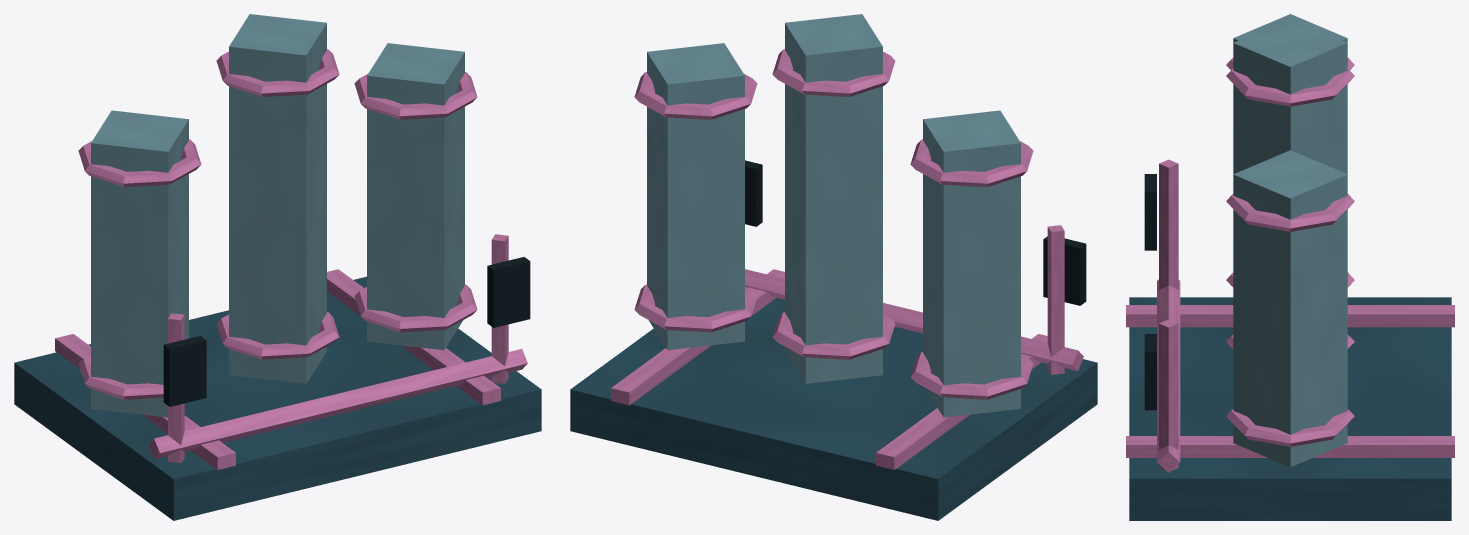
File: atlas100-s065-a02.lod2.glb
The picture shows the model from 3 angles, left to right: view 1: azimuth 30°, elevation 25°; view 2: azimuth 150°, elevation 25°; view 3: azimuth 270°, elevation 25°; orthographic projection.
Visible parts, largest first — view 1: atlas100-s065-a02:part-000, atlas100-s065-a02:part-007, atlas100-s065-a02:part-011, atlas100-s065-a02:part-003, atlas100-s065-a02:part-019, atlas100-s065-a02:part-018, atlas100-s065-a02:part-016, atlas100-s065-a02:part-002, atlas100-s065-a02:part-013, atlas100-s065-a02:part-005, atlas100-s065-a02:part-008, atlas100-s065-a02:part-009 (+5 smaller); view 2: atlas100-s065-a02:part-000, atlas100-s065-a02:part-007, atlas100-s065-a02:part-011, atlas100-s065-a02:part-003, atlas100-s065-a02:part-002, atlas100-s065-a02:part-019, atlas100-s065-a02:part-015, atlas100-s065-a02:part-001, atlas100-s065-a02:part-013, atlas100-s065-a02:part-005, atlas100-s065-a02:part-008, atlas100-s065-a02:part-004 (+4 smaller); view 3: atlas100-s065-a02:part-000, atlas100-s065-a02:part-011, atlas100-s065-a02:part-007, atlas100-s065-a02:part-002, atlas100-s065-a02:part-001, atlas100-s065-a02:part-017, atlas100-s065-a02:part-015, atlas100-s065-a02:part-012, atlas100-s065-a02:part-013, atlas100-s065-a02:part-009, atlas100-s065-a02:part-019, atlas100-s065-a02:part-016 (+2 smaller).
Boxes of the visible parts, x1,y1,x2,y2 form: atlas100-s065-a02:part-000: (14, 276, 541, 520); atlas100-s065-a02:part-007: (229, 14, 326, 383); atlas100-s065-a02:part-011: (367, 43, 464, 350); atlas100-s065-a02:part-003: (91, 110, 188, 417); atlas100-s065-a02:part-019: (148, 349, 527, 459); atlas100-s065-a02:part-018: (487, 257, 530, 327); atlas100-s065-a02:part-016: (163, 336, 206, 406); atlas100-s065-a02:part-002: (327, 269, 500, 405); atlas100-s065-a02:part-013: (354, 72, 477, 119); atlas100-s065-a02:part-005: (78, 139, 201, 187); atlas100-s065-a02:part-008: (216, 312, 339, 359); atlas100-s065-a02:part-009: (216, 49, 339, 96); atlas100-s065-a02:part-000: (570, 297, 1097, 520); atlas100-s065-a02:part-007: (785, 14, 882, 383); atlas100-s065-a02:part-011: (647, 43, 744, 350); atlas100-s065-a02:part-003: (923, 110, 1020, 417); atlas100-s065-a02:part-002: (611, 269, 784, 405); atlas100-s065-a02:part-019: (745, 269, 1083, 370); atlas100-s065-a02:part-015: (1047, 225, 1064, 374); atlas100-s065-a02:part-001: (876, 334, 1047, 469); atlas100-s065-a02:part-013: (634, 72, 757, 119); atlas100-s065-a02:part-005: (910, 139, 1033, 187); atlas100-s065-a02:part-008: (772, 312, 895, 359); atlas100-s065-a02:part-004: (910, 352, 1033, 399); atlas100-s065-a02:part-000: (1129, 297, 1451, 520); atlas100-s065-a02:part-011: (1233, 150, 1347, 467); atlas100-s065-a02:part-007: (1233, 18, 1347, 173); atlas100-s065-a02:part-002: (1126, 436, 1454, 457); atlas100-s065-a02:part-001: (1126, 305, 1454, 327); atlas100-s065-a02:part-017: (1159, 319, 1178, 470); atlas100-s065-a02:part-015: (1159, 159, 1178, 289); atlas100-s065-a02:part-012: (1226, 409, 1354, 446); atlas100-s065-a02:part-013: (1226, 194, 1354, 231); atlas100-s065-a02:part-009: (1226, 68, 1354, 106); atlas100-s065-a02:part-019: (1157, 279, 1180, 472); atlas100-s065-a02:part-016: (1144, 174, 1156, 250).
Size of the model in its own units: 2.52 by 2.39 by 1.84.
4 materials, 4 textured.
